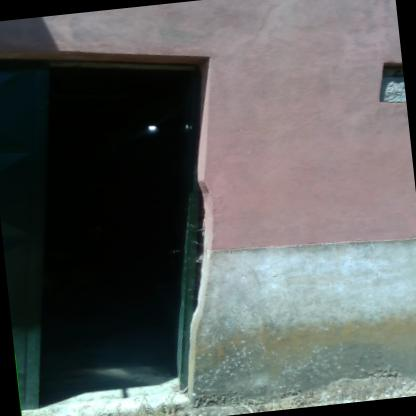open: (0, 37, 259, 415)
